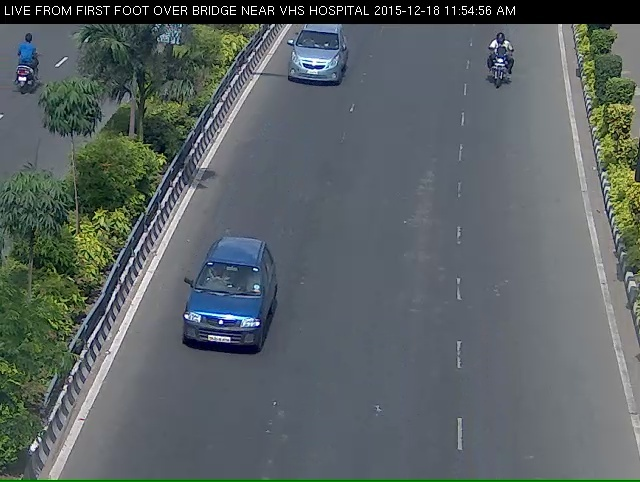Car: (149, 255, 277, 392), (277, 23, 345, 106)
Person: (481, 29, 520, 103)
